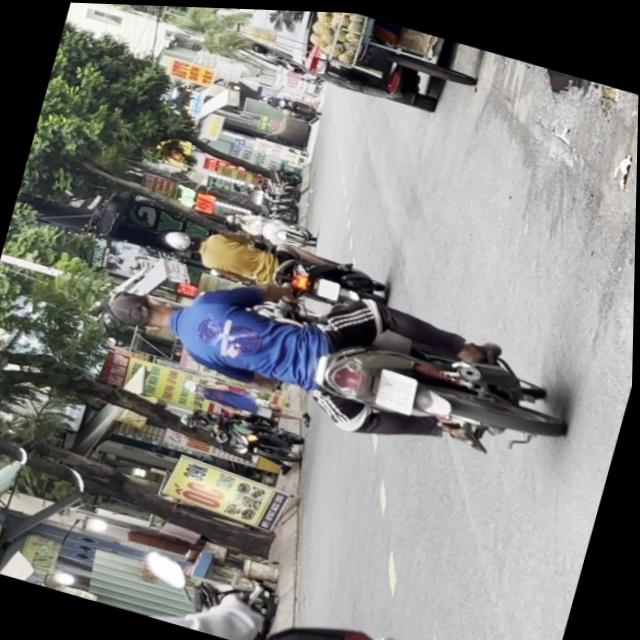helmet: (161, 225, 203, 255)
licenseplate: (84, 222, 584, 485), (157, 206, 396, 321)
motorcyclist: (104, 282, 178, 335)
nohelmet: (373, 365, 421, 412), (316, 274, 342, 298)
